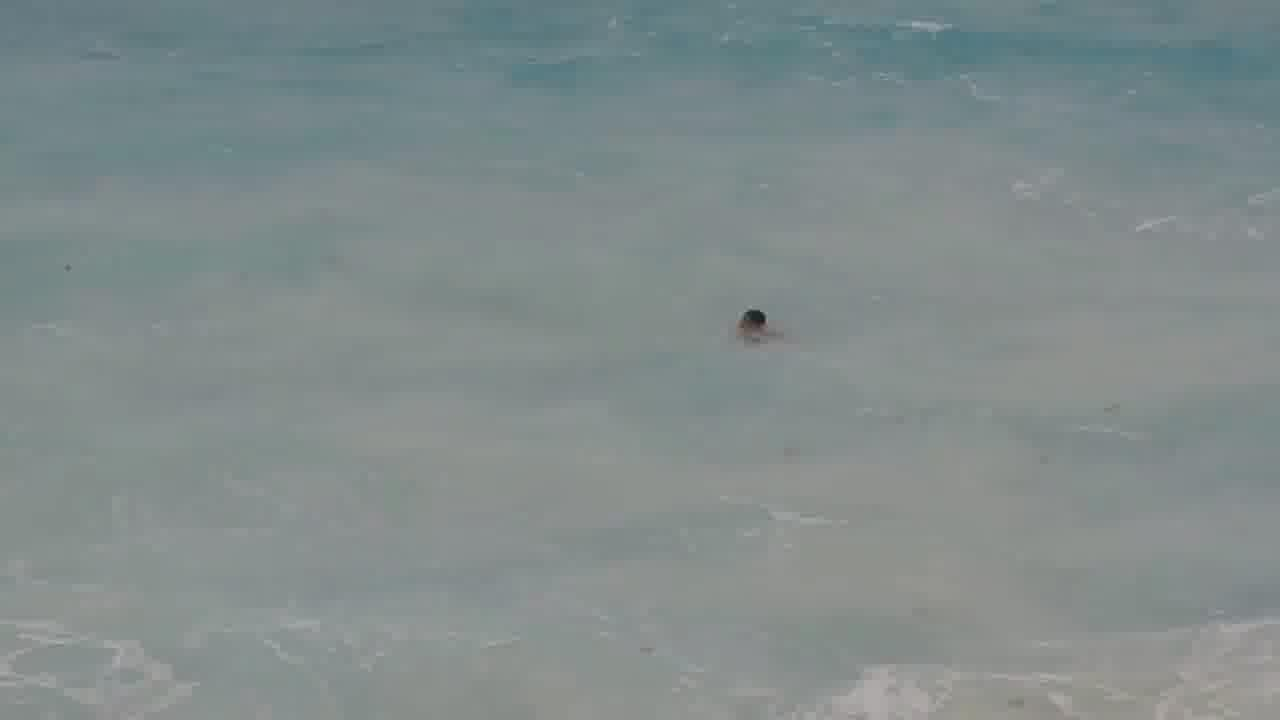swimmer: (724, 306, 787, 345)
